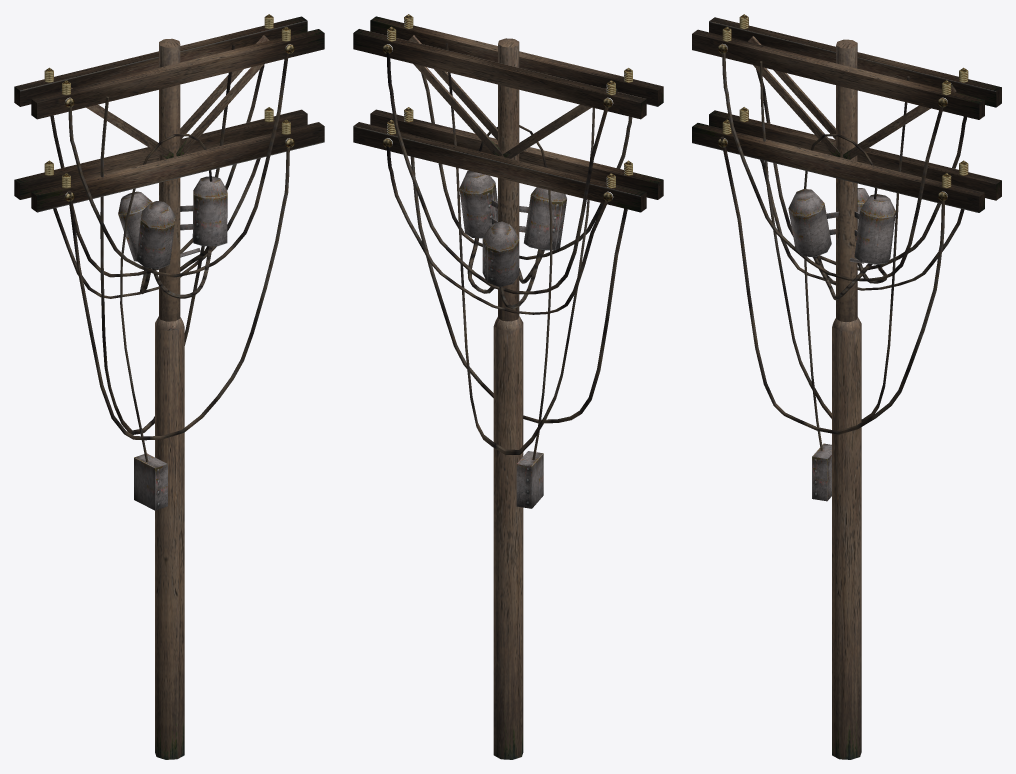
The model's file is Landline02.fbx.
3 renders of one model, left to right at view 1: azimuth 30°, elevation 25°; view 2: azimuth 150°, elevation 25°; view 3: azimuth 330°, elevation 25°, orthographic.
Parts seen in each view (by area): view 1: Landline3; view 2: Landline3; view 3: Landline3.
Part boxes in pixels (x1,y1,x2,y2): Landline3: [14, 14, 324, 759]; Landline3: [353, 14, 663, 759]; Landline3: [692, 14, 1001, 759].
Bounding box in the file's own units: 117 × 279 × 37.08.
